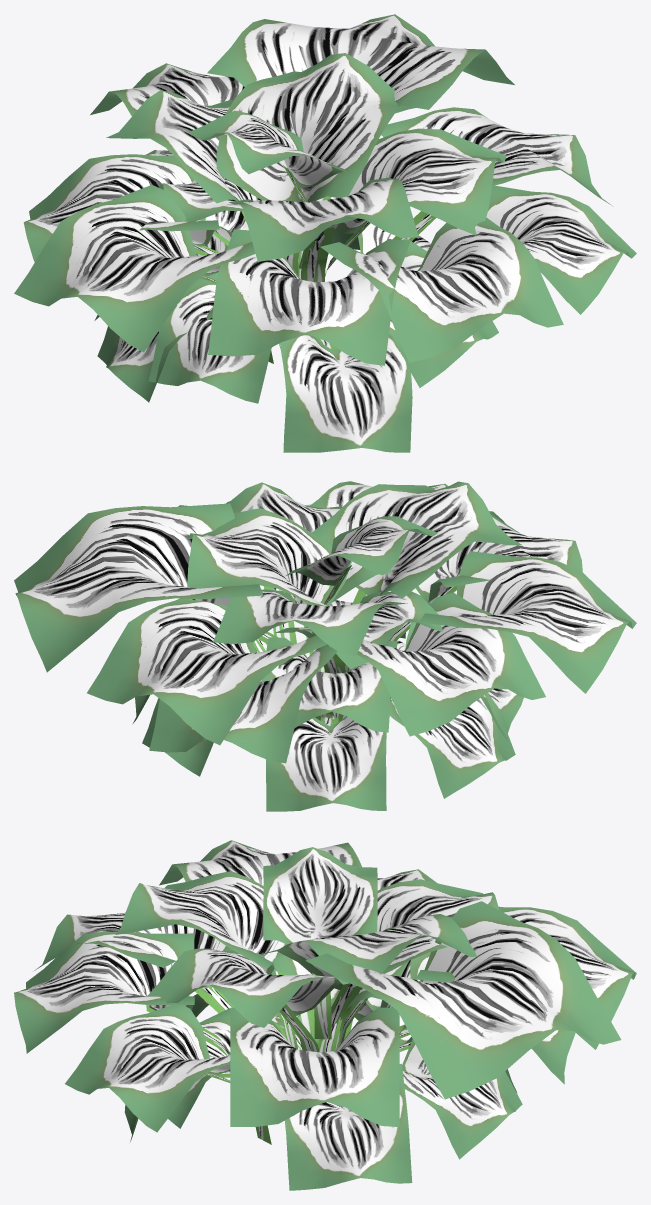
Rendered from SM_jungle_05.fbx.
The picture shows the model from 3 angles, top to bottom: view 1: azimuth 30°, elevation 25°; view 2: azimuth 150°, elevation 25°; view 3: azimuth 270°, elevation 25°; orthographic projection. The views are drawn at different scales.
Visible parts, largest first — view 1: SM_jungle_05_LOD0; view 2: SM_jungle_05_LOD0; view 3: SM_jungle_05_LOD0.
Part boxes in pixels (left/top/right/bottom): SM_jungle_05_LOD0: left=14, top=14, right=636, bottom=452; SM_jungle_05_LOD0: left=14, top=481, right=636, bottom=811; SM_jungle_05_LOD0: left=14, top=840, right=636, bottom=1190.
Bounding box in the file's own units: 106 × 108 × 48.93.
